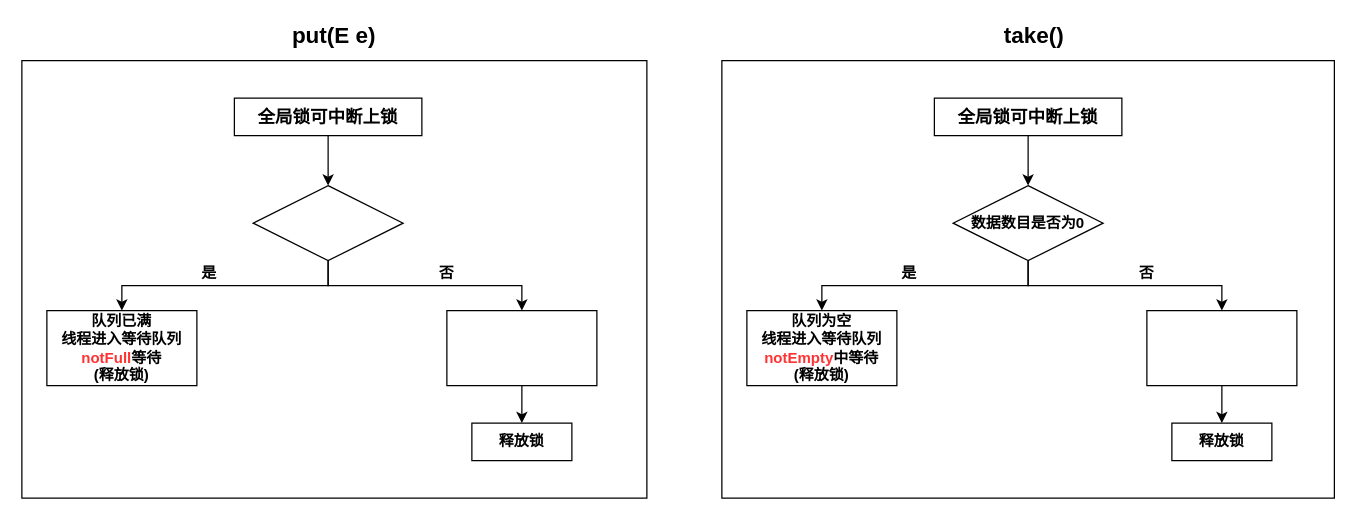
This 1356x520 diagram has some shape labels left out. The box of each missing label's shape, as (x1, y1, x2, y2) in pixels:
数据数目是否等于数据长度: (252, 184, 403, 261)
调用dequeue()——取出队列首元素,唤醒 notFull 中的一个线程: (1146, 309, 1297, 386)
调用enqueue()—— 将元素插入队列 唤醒 notEmpty 中的一个线程: (446, 309, 597, 386)
